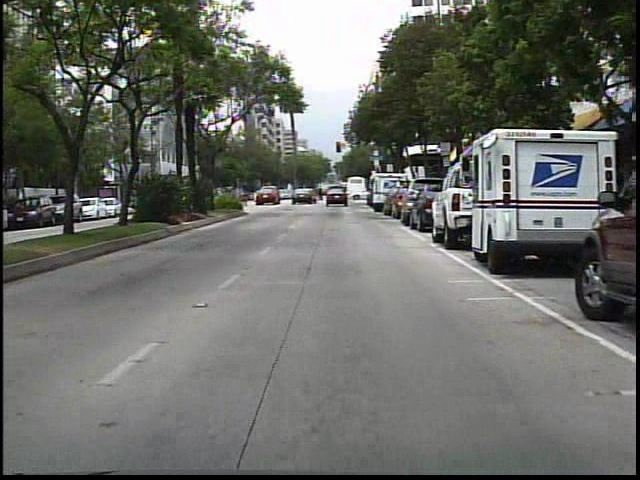person: (301, 182, 318, 206), (318, 184, 326, 203)
